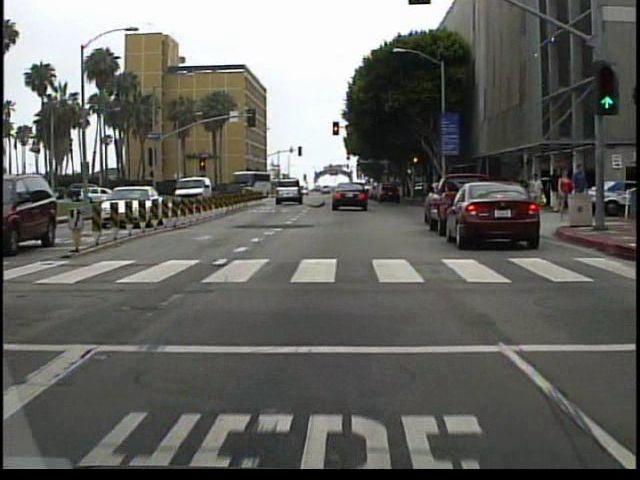person: (570, 165, 588, 223), (555, 168, 573, 223), (527, 171, 544, 200)
